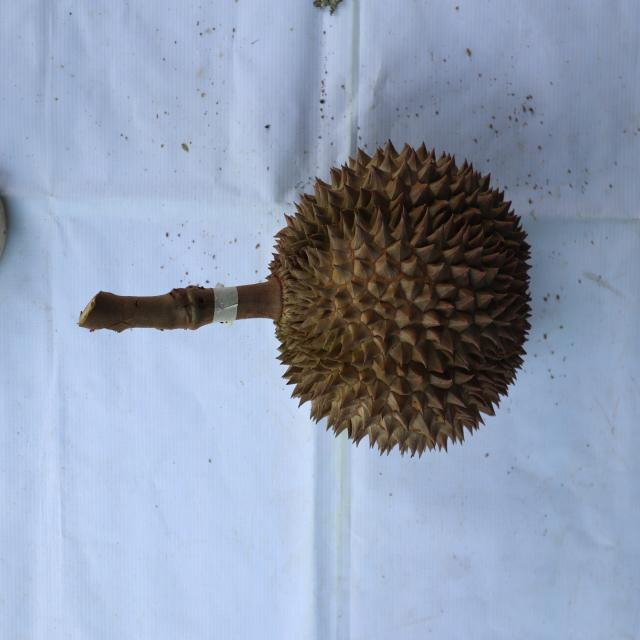mature: (268, 135, 534, 452)
